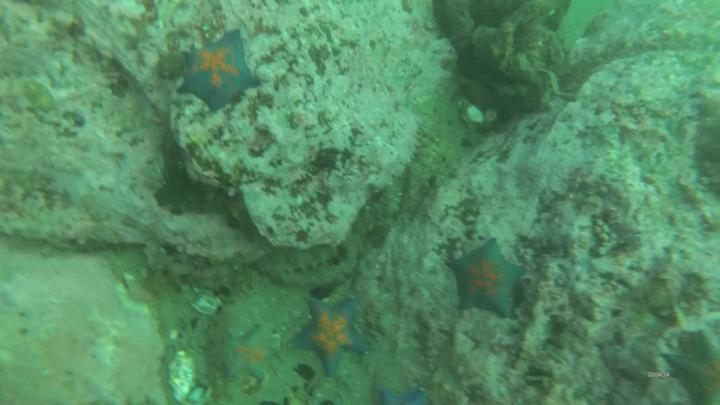holothurian: (262, 246, 335, 273), (262, 266, 356, 285)
starfish: (180, 33, 257, 111), (450, 244, 526, 319), (292, 301, 368, 376), (665, 330, 720, 405), (225, 329, 273, 383)
